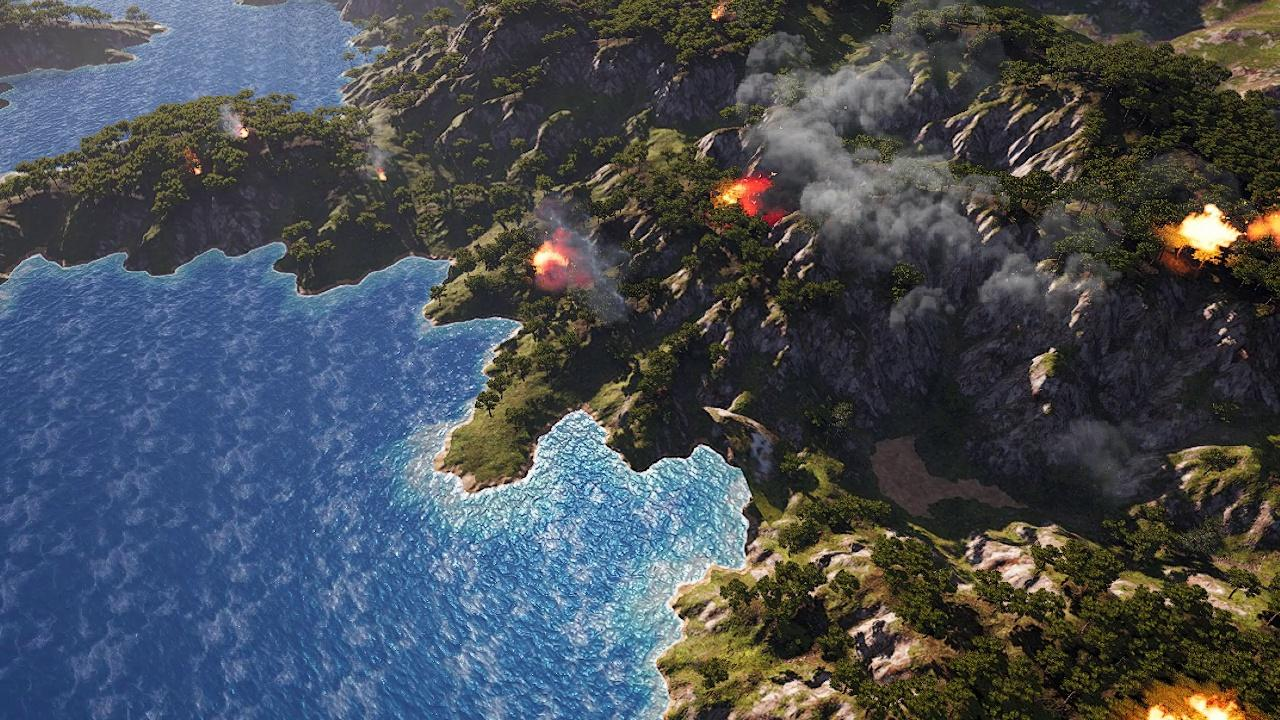fire: (1175, 204, 1280, 262), (1133, 695, 1252, 720), (714, 174, 767, 215), (534, 242, 569, 270), (709, 3, 726, 22), (372, 169, 383, 180), (196, 166, 205, 177)
smoke: (729, 27, 1082, 337), (530, 197, 630, 323), (1044, 413, 1174, 506), (362, 143, 394, 179), (220, 106, 246, 140)
